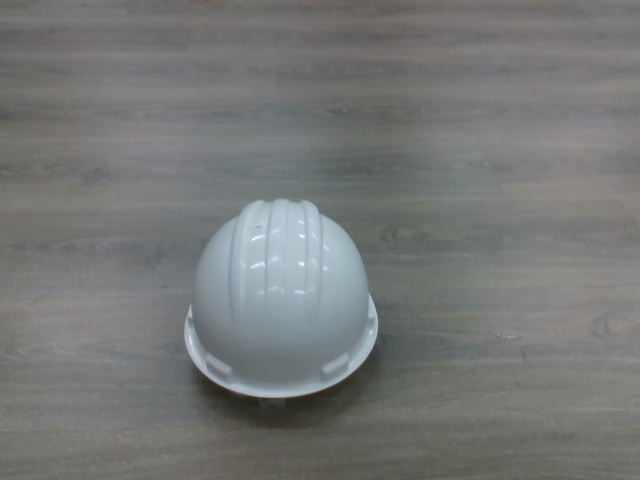helmet: (180, 195, 385, 404)
